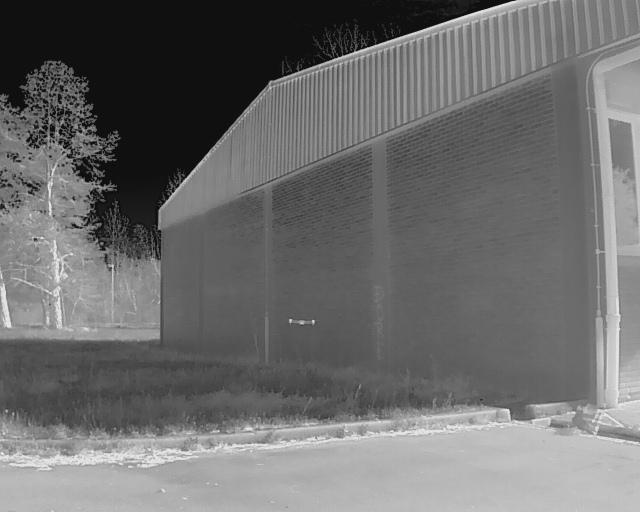drone: (278, 312, 326, 331)
